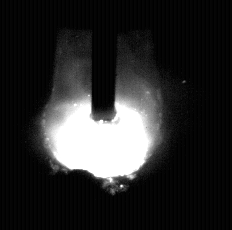arame: (92, 0, 117, 121)
poca: (43, 0, 162, 230)
